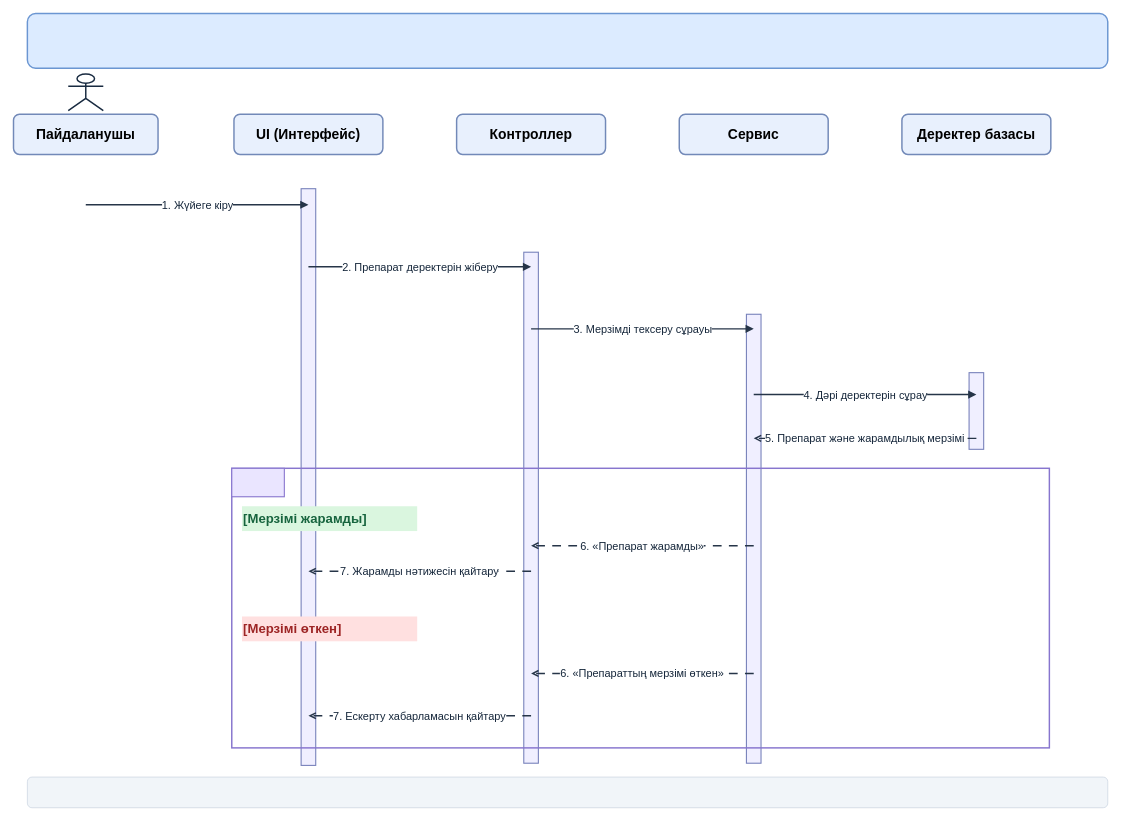
This 1121x821 diagram has some shape labels left out. The box of each missing label's shape, as (x1, y1, x2, y2) in pixels:
8. UI нәтижені пайдаланушыға көрсетеді: (27, 776, 1108, 808)
alt: (231, 467, 285, 497)
Sequence Diagram — Дәрілердің жарамдылық мерзімін тексеру: (26, 12, 1108, 69)
